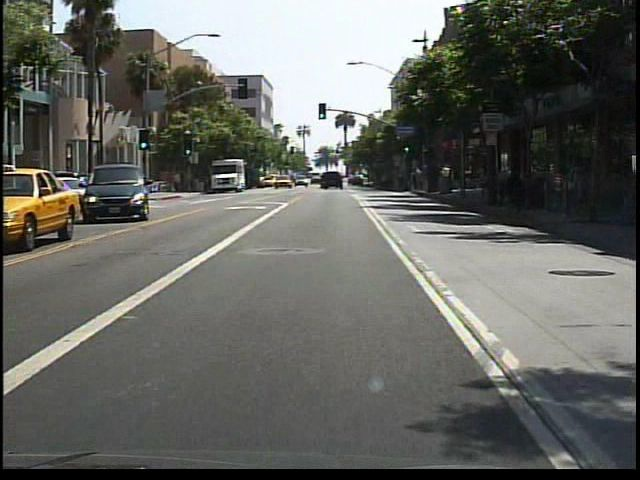person: (172, 168, 186, 194), (164, 171, 176, 194)
